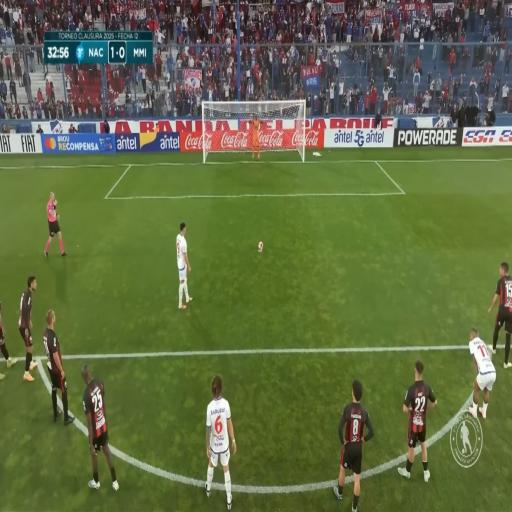Ball: (256, 238, 266, 252)
Goalkeeper: (250, 108, 263, 158)
Player: (81, 361, 123, 494), (332, 369, 370, 512), (204, 370, 236, 512), (402, 354, 435, 484), (42, 308, 76, 428), (462, 318, 495, 425), (490, 252, 512, 372), (19, 274, 39, 382), (177, 218, 193, 312)
Referee: (43, 193, 68, 260)
